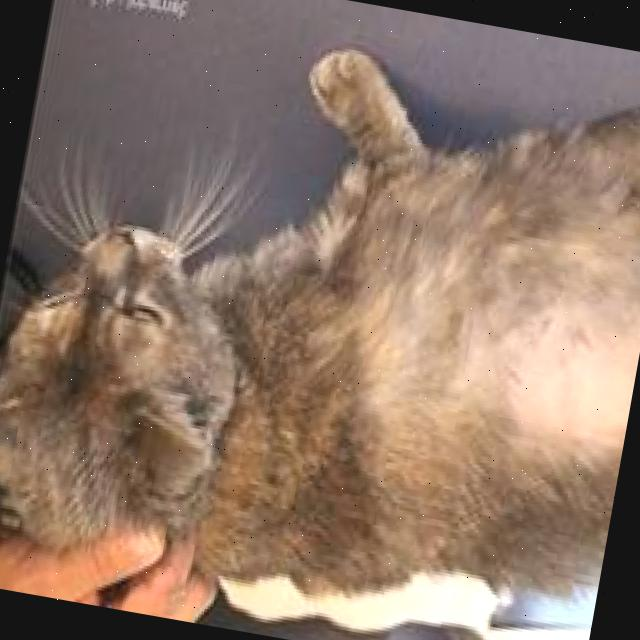cat-hairloss: (358, 135, 640, 498)
